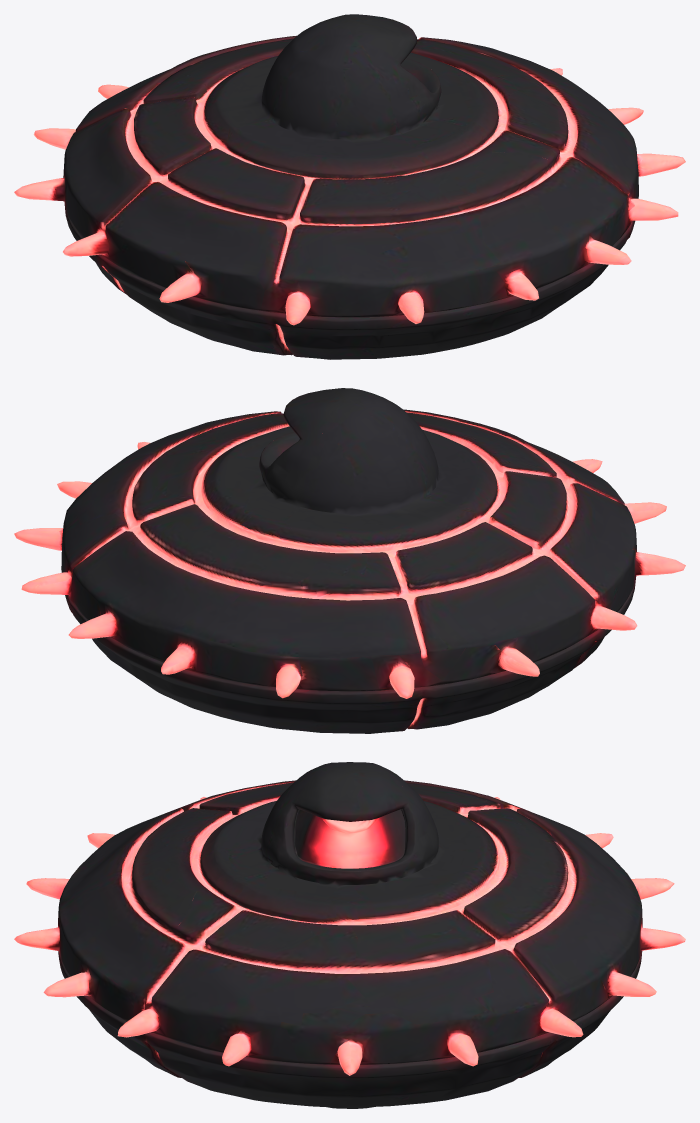
The model's file is mine.glb.
3 renders of one model, top to bottom at view 1: azimuth 30°, elevation 25°; view 2: azimuth 150°, elevation 25°; view 3: azimuth 270°, elevation 25°, orthographic.
Visible parts, largest first — view 1: tripo_node_8090f7ce-19c9-4747-83d8-0e95a37e3e23; view 2: tripo_node_8090f7ce-19c9-4747-83d8-0e95a37e3e23; view 3: tripo_node_8090f7ce-19c9-4747-83d8-0e95a37e3e23.
Boxes of the visible parts, x1,y1,x2,y2 form: tripo_node_8090f7ce-19c9-4747-83d8-0e95a37e3e23: (14, 14, 685, 359); tripo_node_8090f7ce-19c9-4747-83d8-0e95a37e3e23: (14, 388, 685, 733); tripo_node_8090f7ce-19c9-4747-83d8-0e95a37e3e23: (14, 762, 685, 1108).
Size of the model in its own units: 0.9819 by 0.4285 by 0.9722.
Materials: 1 (1 with a texture image).
